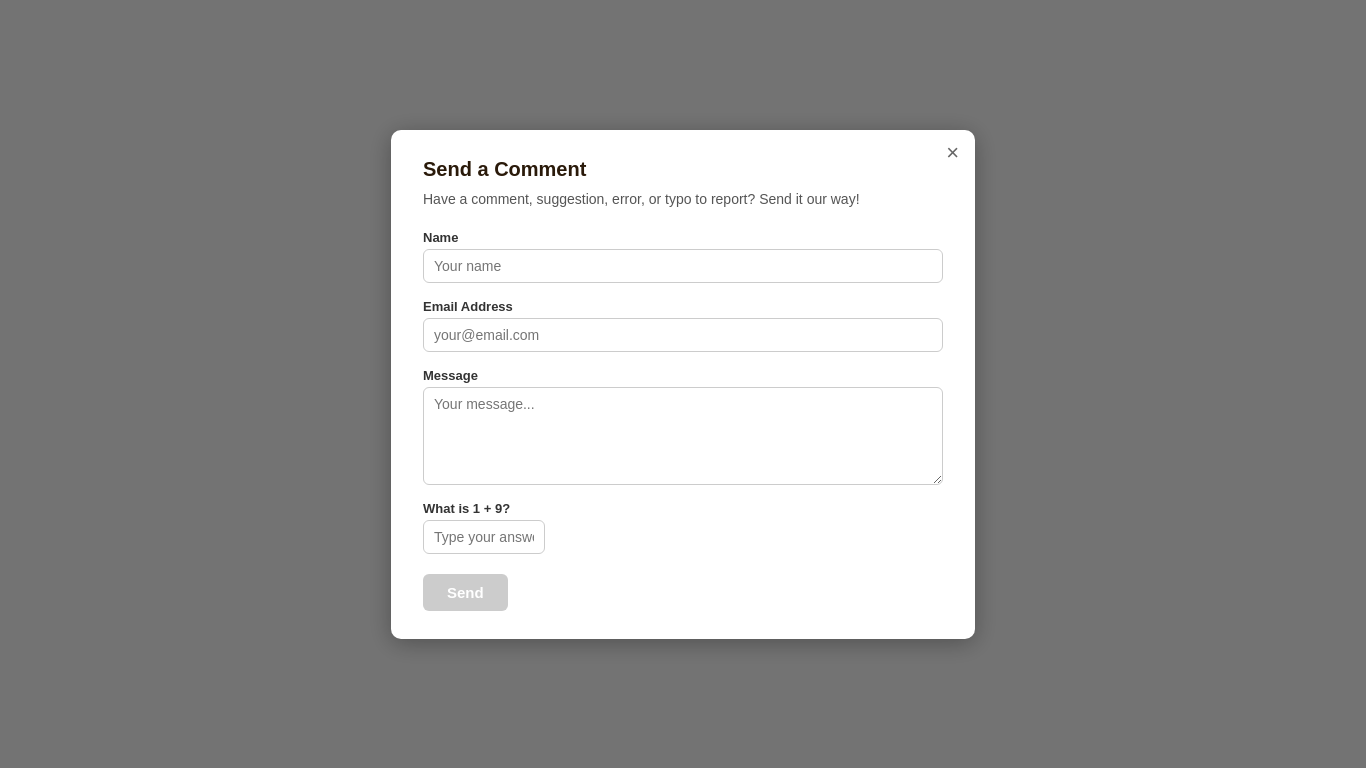
Test case: shows a validation message for an invalid email
Type "not-an-email" into the field labelled "Email Address" at (683, 334), box [423,318,943,352]
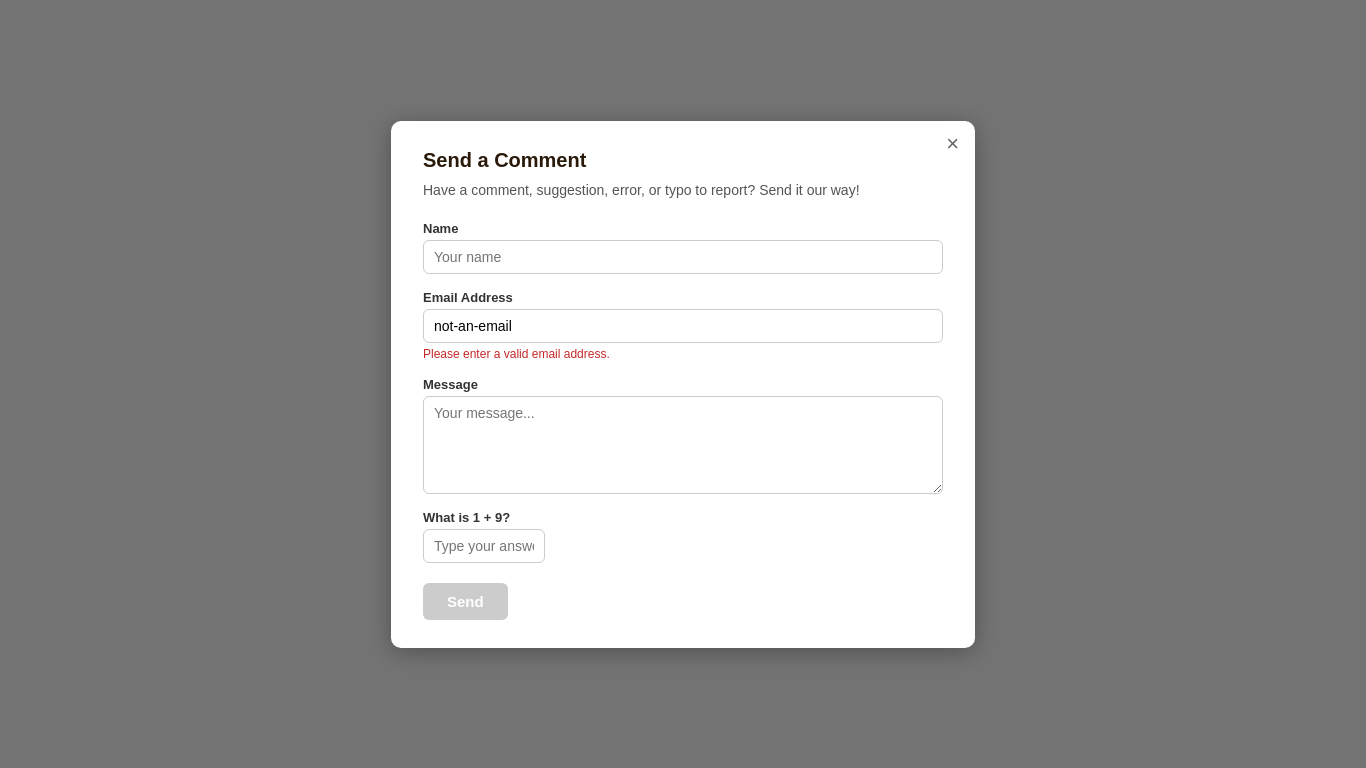
Expected: the text "Please enter a valid email address." is shown, [423,346,610,360]
